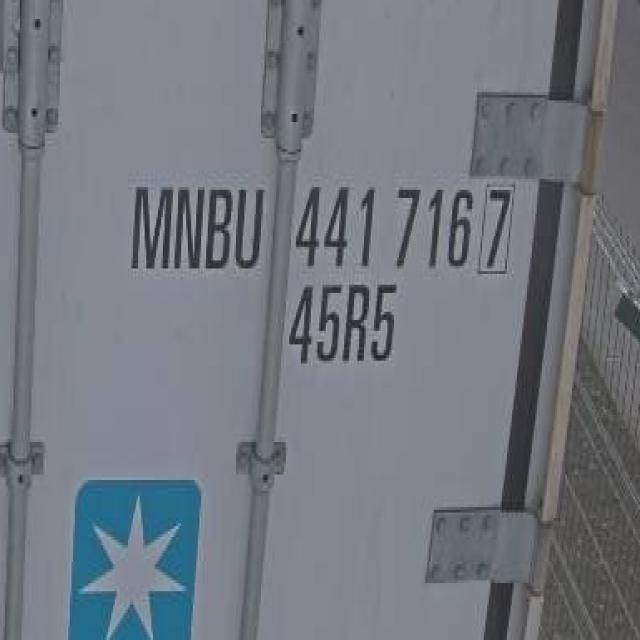dv: (478, 181, 520, 276)
owner: (123, 172, 272, 287)
serial: (290, 174, 474, 277)
size: (282, 278, 408, 381)
